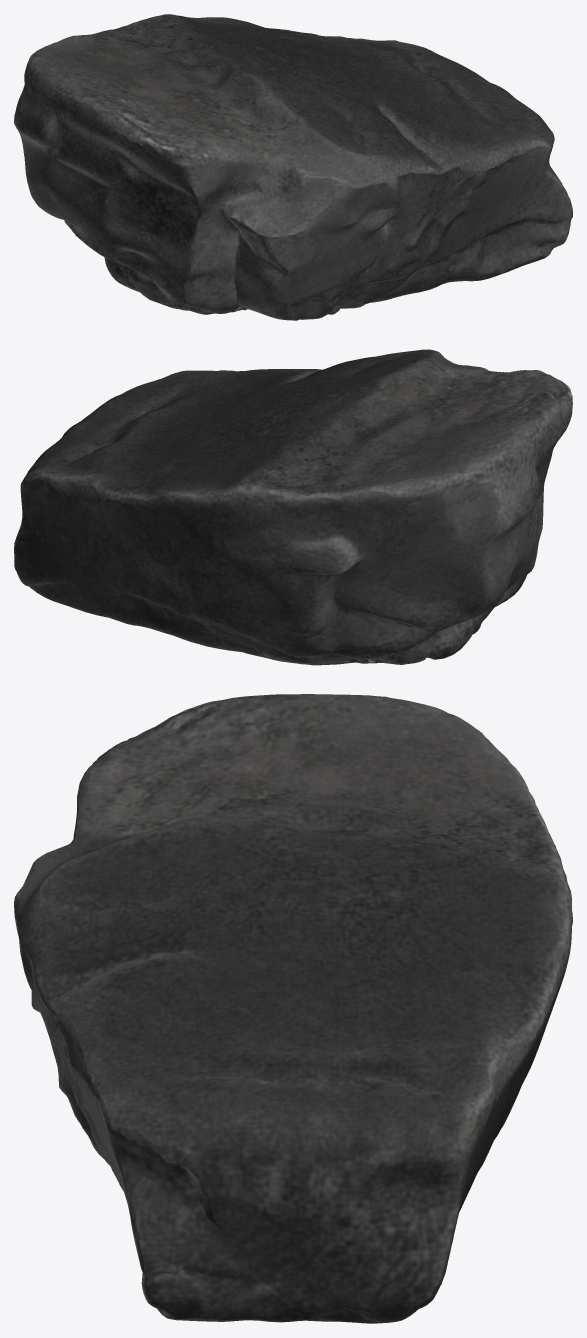
3 views of the same model, one above another, from view 1: azimuth 30°, elevation 25°; view 2: azimuth 150°, elevation 25°; view 3: azimuth 270°, elevation 25° (orthographic). The views are drawn at different scales.
Visible parts, largest first — view 1: world; view 2: world; view 3: world.
Part boxes in pixels (<box>): world: <box>14,14,572,320</box>; world: <box>14,349,572,665</box>; world: <box>14,694,572,1323</box>.
Bounding box in the file's own units: 1.2 × 0.6006 × 0.8915.
Materials: 1 (1 with a texture image).
